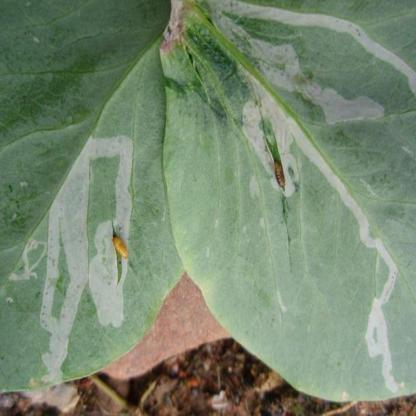whorl-maggot: (105, 230, 134, 268), (266, 152, 291, 194)
